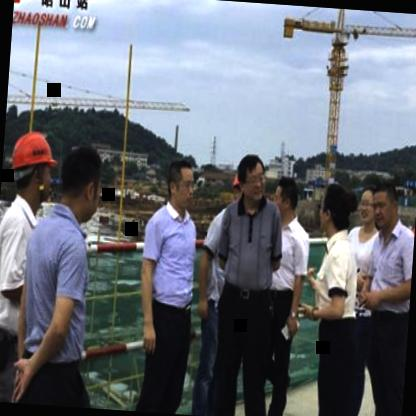head: (56, 142, 107, 227), (319, 182, 354, 244), (164, 155, 198, 215), (234, 150, 268, 206), (370, 177, 402, 232), (272, 173, 302, 228), (354, 180, 380, 230)
helmet: (6, 127, 60, 214)
